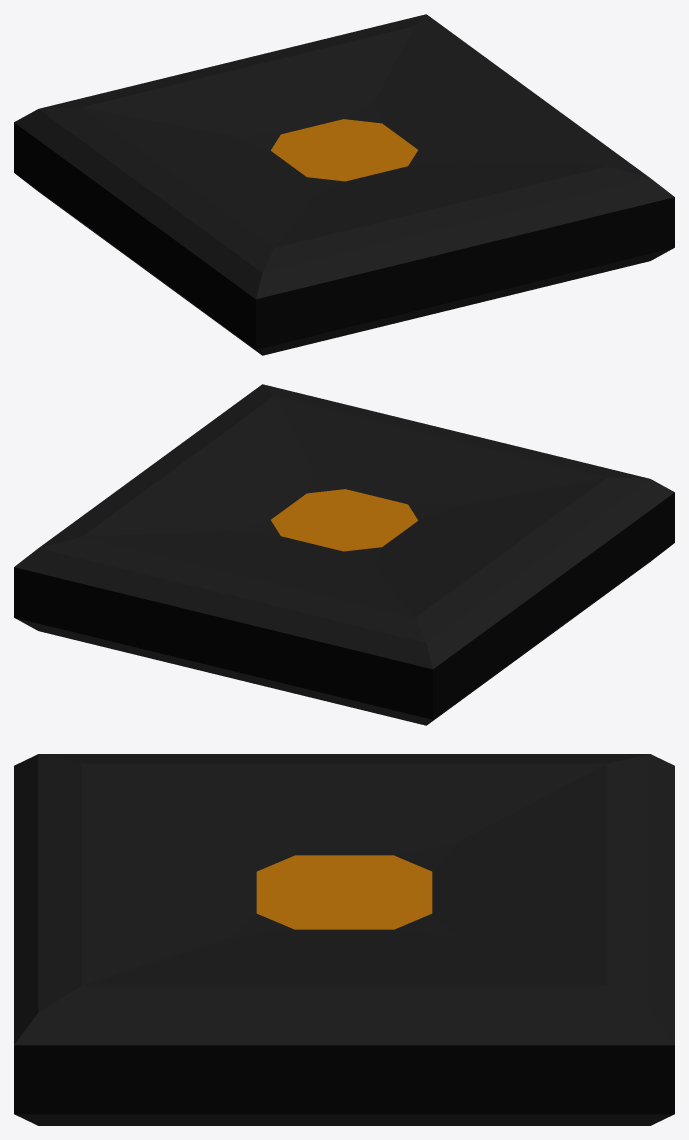
File: stone.glb
3 renders of one model, top to bottom at view 1: azimuth 30°, elevation 25°; view 2: azimuth 150°, elevation 25°; view 3: azimuth 270°, elevation 25°, orthographic. The views are drawn at different scales.
Parts seen in each view (by area): view 1: Cube; view 2: Cube; view 3: Cube.
Part boxes in pixels (left/top/right/bottom): Cube: left=14, top=14, right=674, bottom=355; Cube: left=14, top=384, right=674, bottom=725; Cube: left=14, top=754, right=674, bottom=1125.
Size of the model in its own units: 0.7693 by 0.1681 by 0.7693.
2 materials, 2 textured.
